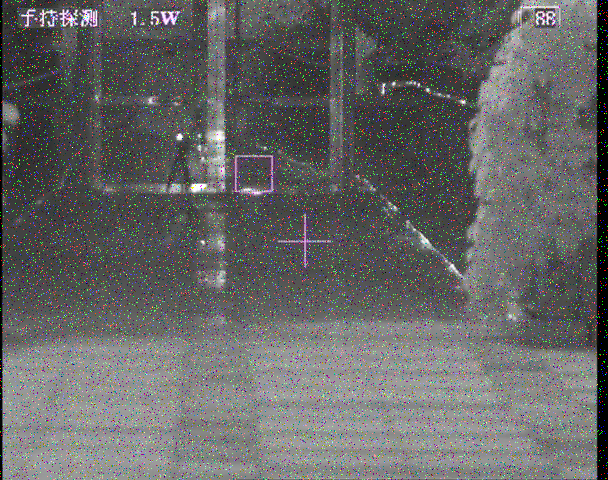my: (175, 132, 185, 143)
